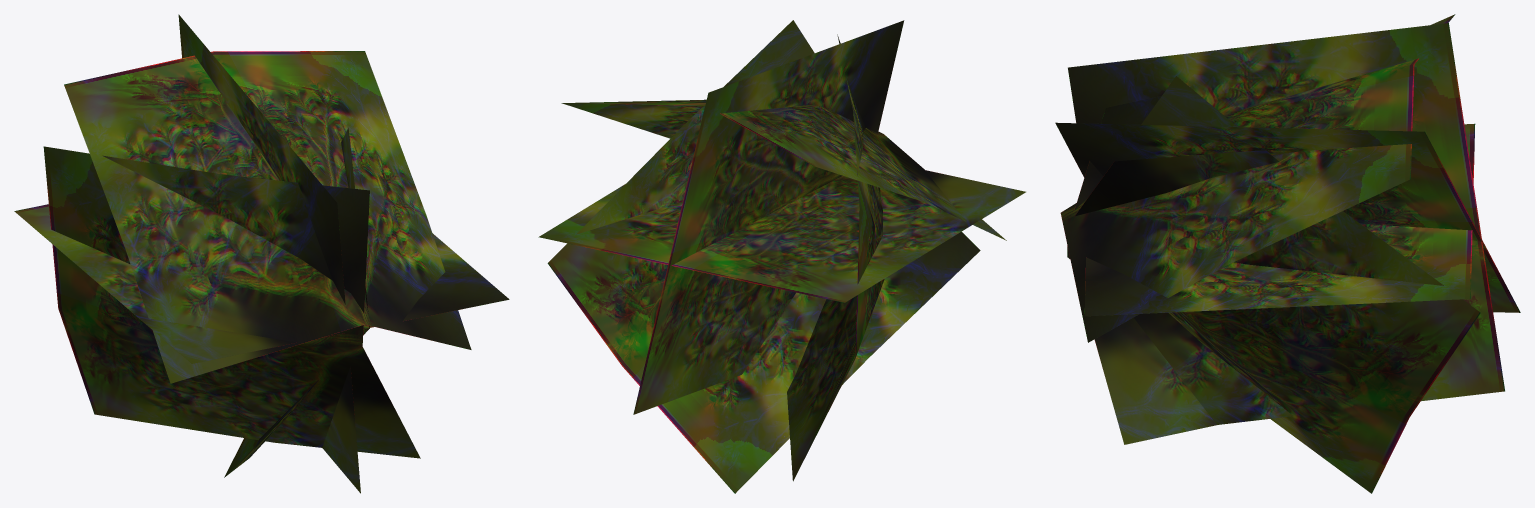
The model's file is Bush_04.fbx.
The picture shows the model from 3 angles, left to right: view 1: azimuth 30°, elevation 25°; view 2: azimuth 150°, elevation 25°; view 3: azimuth 270°, elevation 25°; orthographic projection. The views are drawn at different scales.
Visible parts, largest first — view 1: BerryBush; view 2: BerryBush; view 3: BerryBush.
Boxes of the visible parts, bbox=[...] form: BerryBush: bbox=[14, 14, 509, 493]; BerryBush: bbox=[538, 20, 1025, 493]; BerryBush: bbox=[1055, 14, 1520, 493].
Size of the model in its own units: 2.06 by 2.66 by 2.41.
